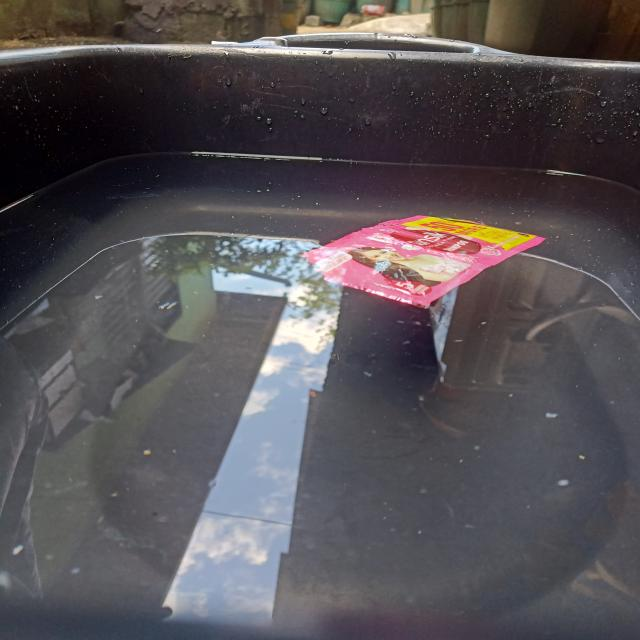Plastic Wrapper: (302, 215, 545, 307)
